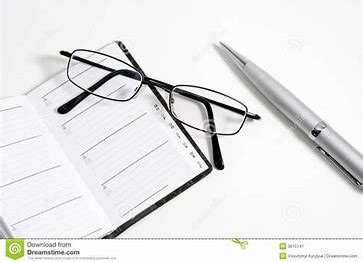pen: (217, 43, 363, 172)
